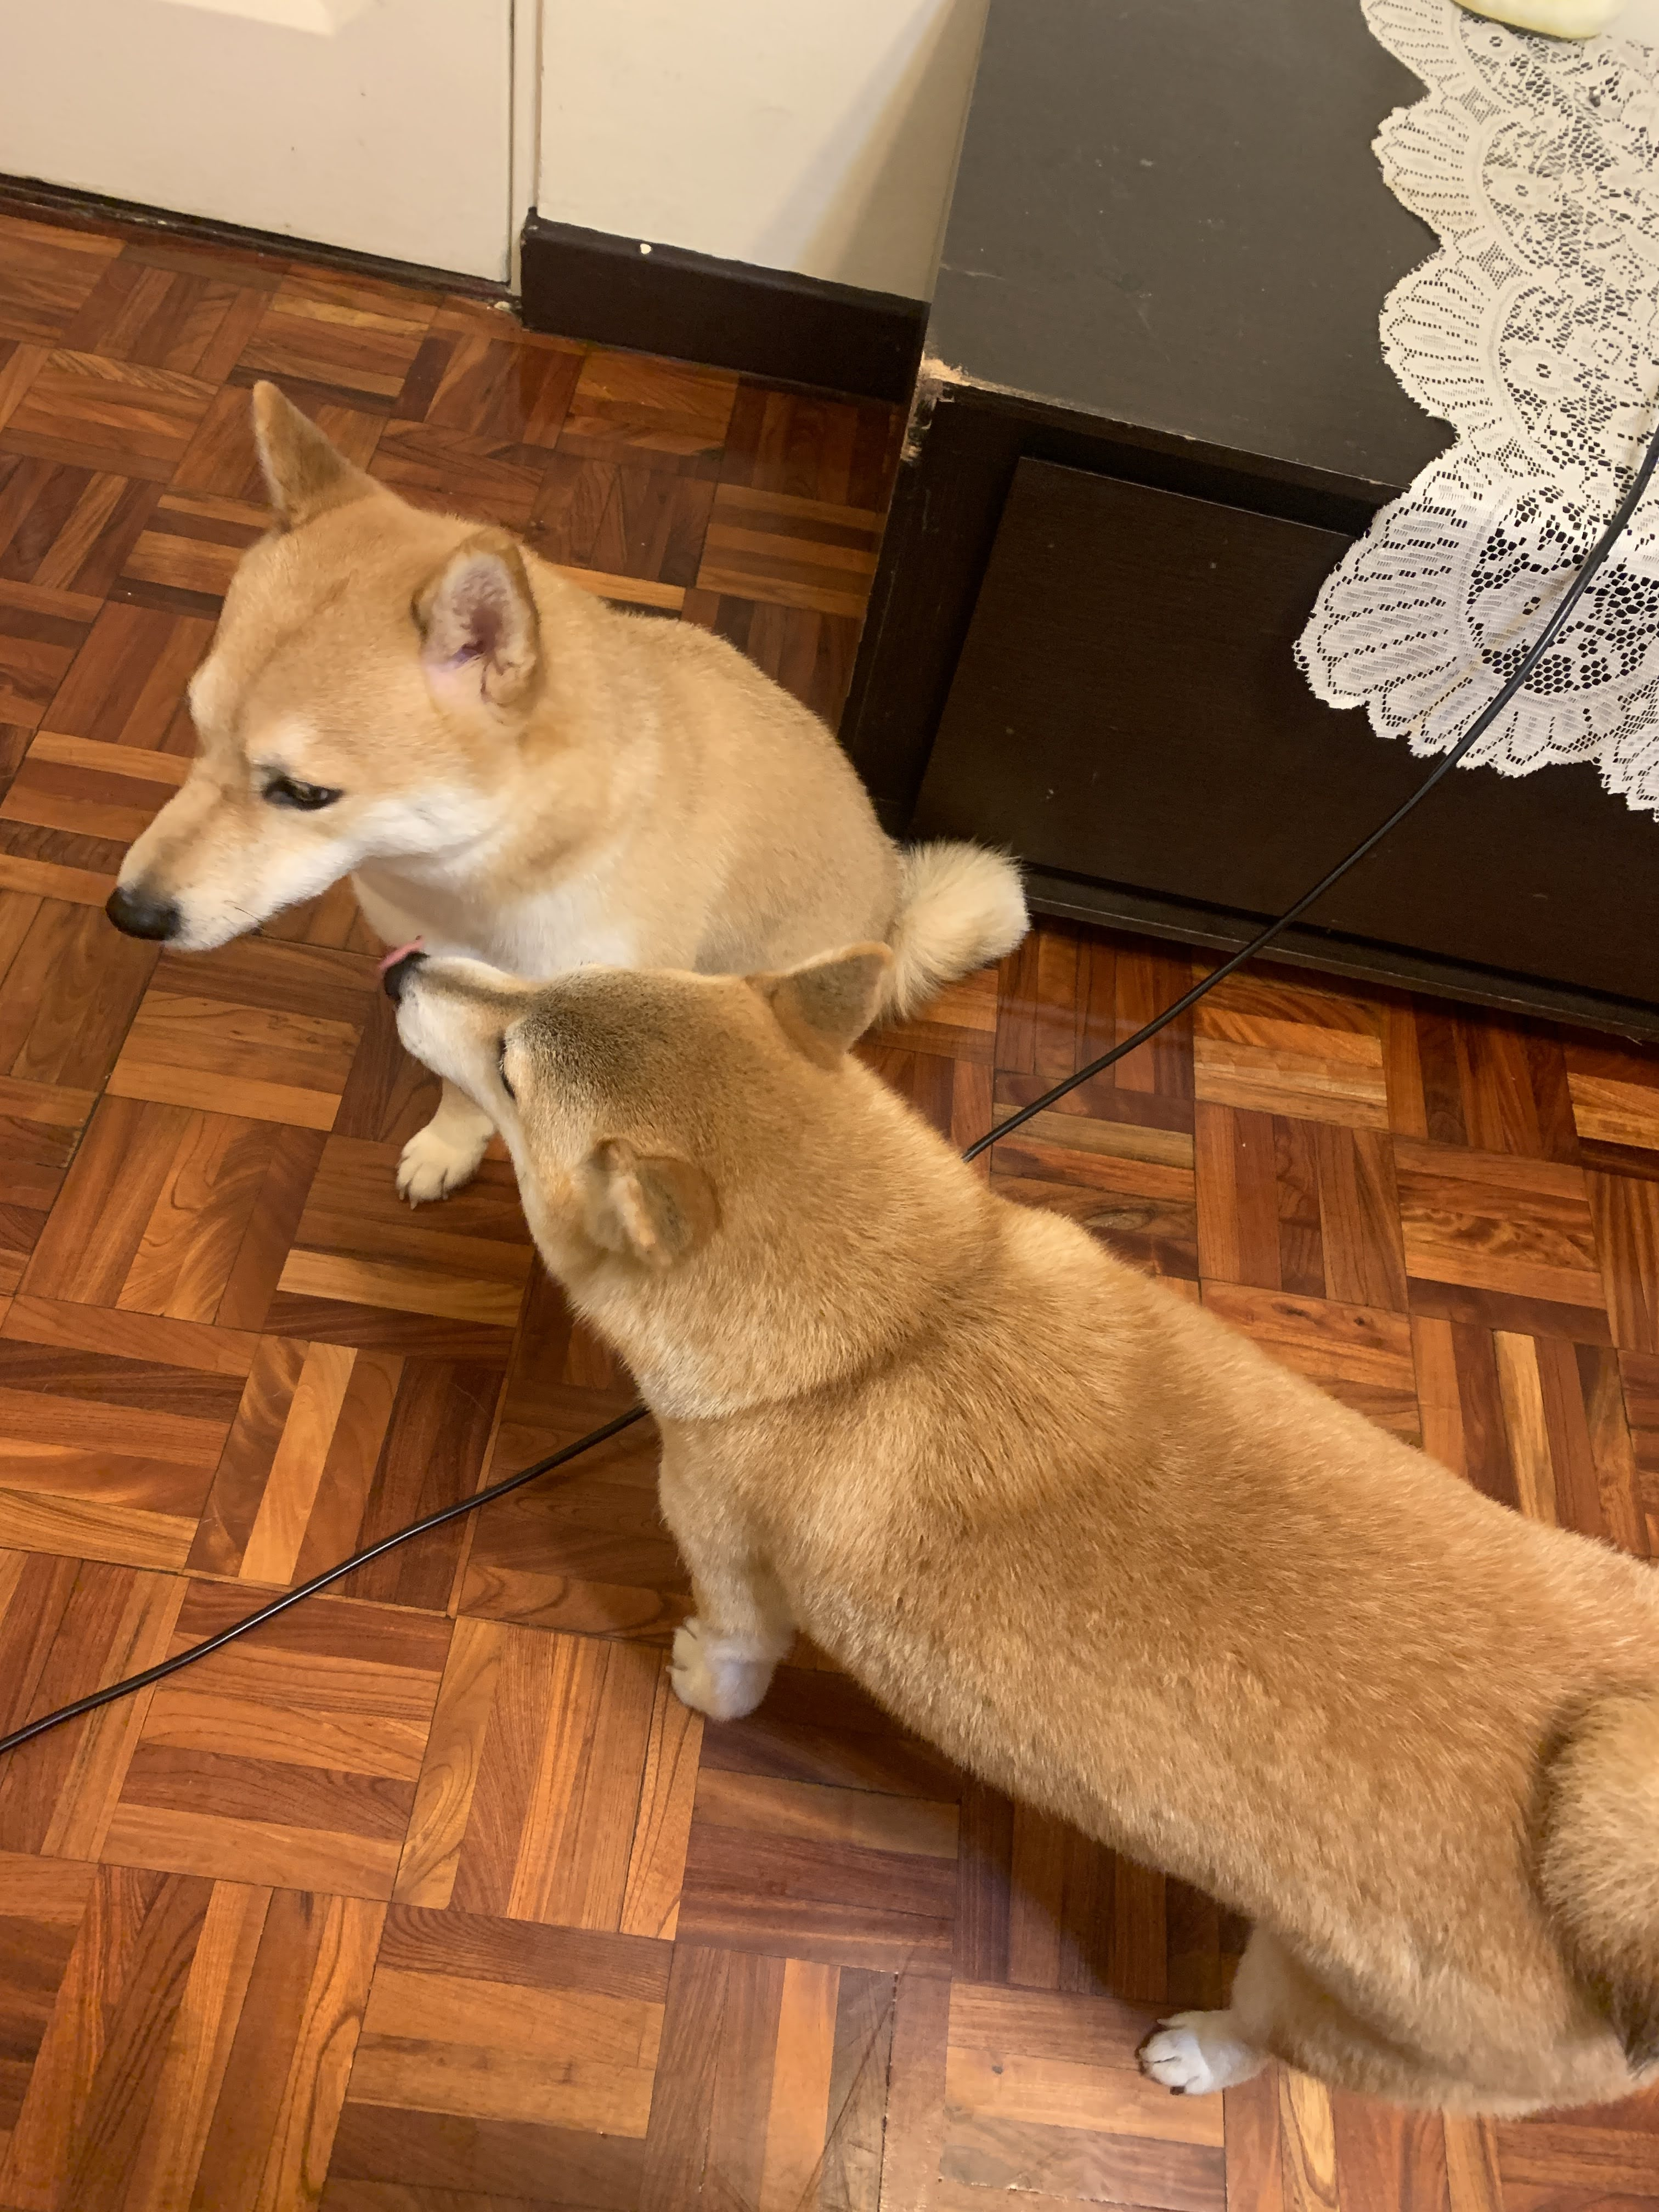Sit down: (113, 352, 1072, 1244)
Stand up: (387, 920, 1659, 2212)
